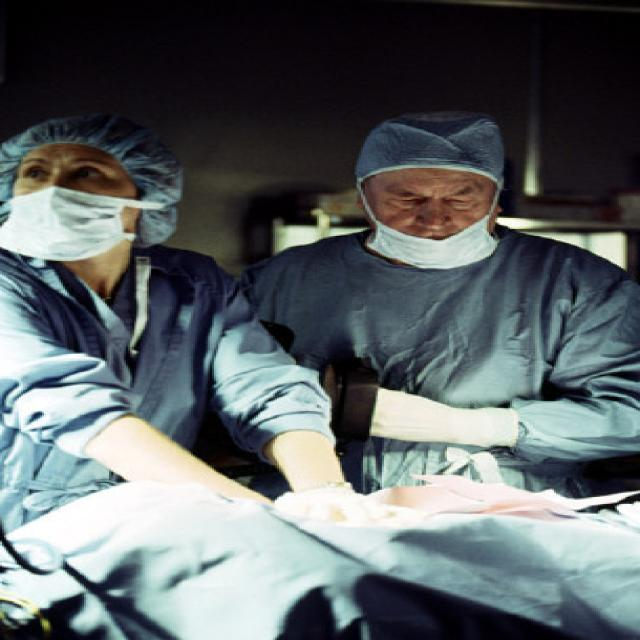mask: (8, 149, 130, 262), (367, 164, 493, 269)
